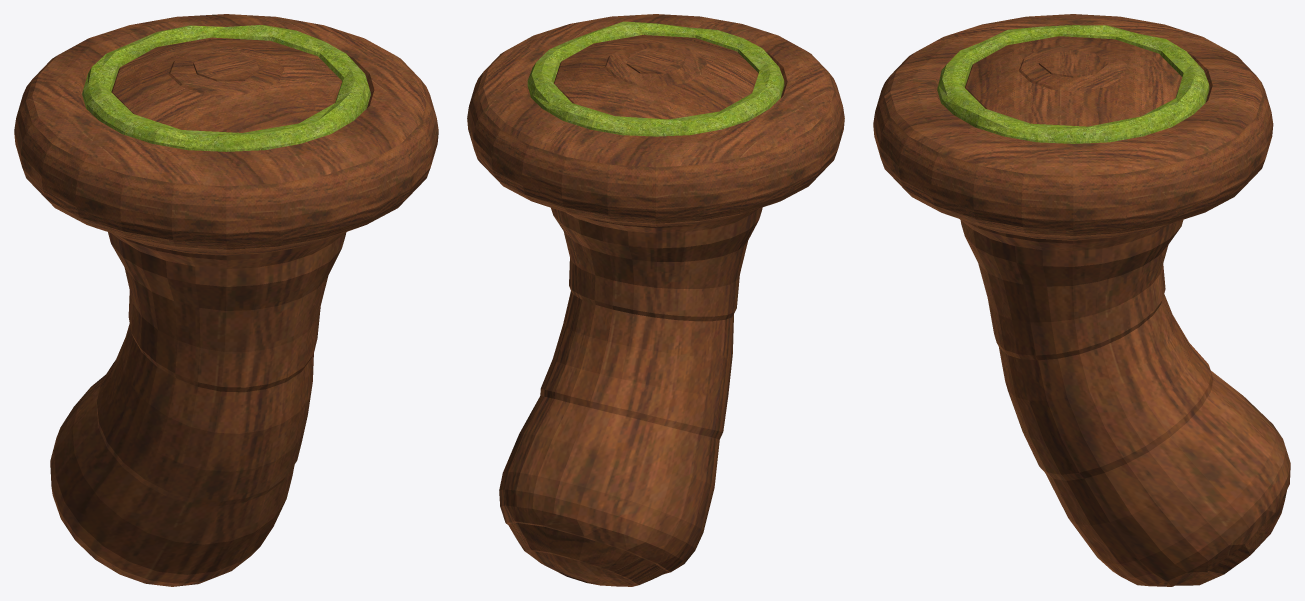
File: KinokoTwinsPlanetB.dae
The picture shows the model from 3 angles, left to right: view 1: azimuth 30°, elevation 25°; view 2: azimuth 150°, elevation 25°; view 3: azimuth 270°, elevation 25°; orthographic projection. The views are drawn at different scales.
Parts seen in each view (by area): view 1: m0, m1; view 2: m0, m1; view 3: m0, m1.
Part boxes in pixels (left/top/right/bottom): m0: left=14, top=14, right=438, bottom=586; m1: left=82, top=25, right=370, bottom=151; m0: left=467, top=14, right=844, bottom=586; m1: left=527, top=21, right=784, bottom=136; m0: left=873, top=14, right=1290, bottom=586; m1: left=937, top=25, right=1209, bottom=143.
Size of the model in its own units: 1632 by 2298 by 1693.
2 materials, 2 textured.
